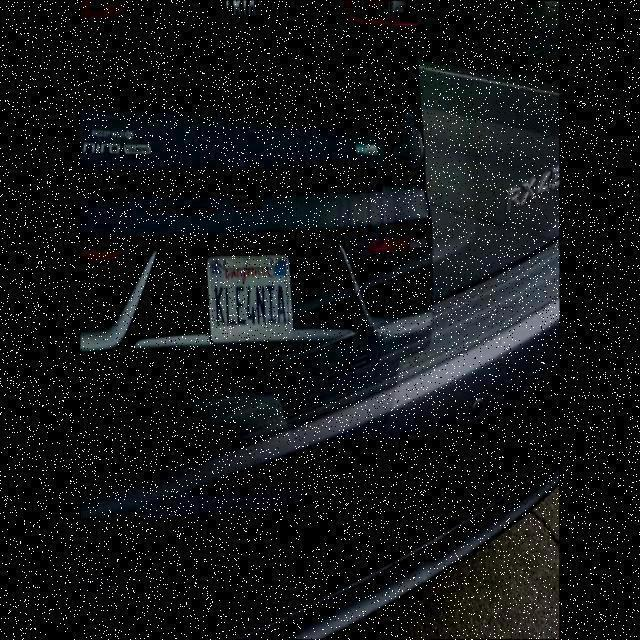license_plate: (198, 244, 302, 356)
